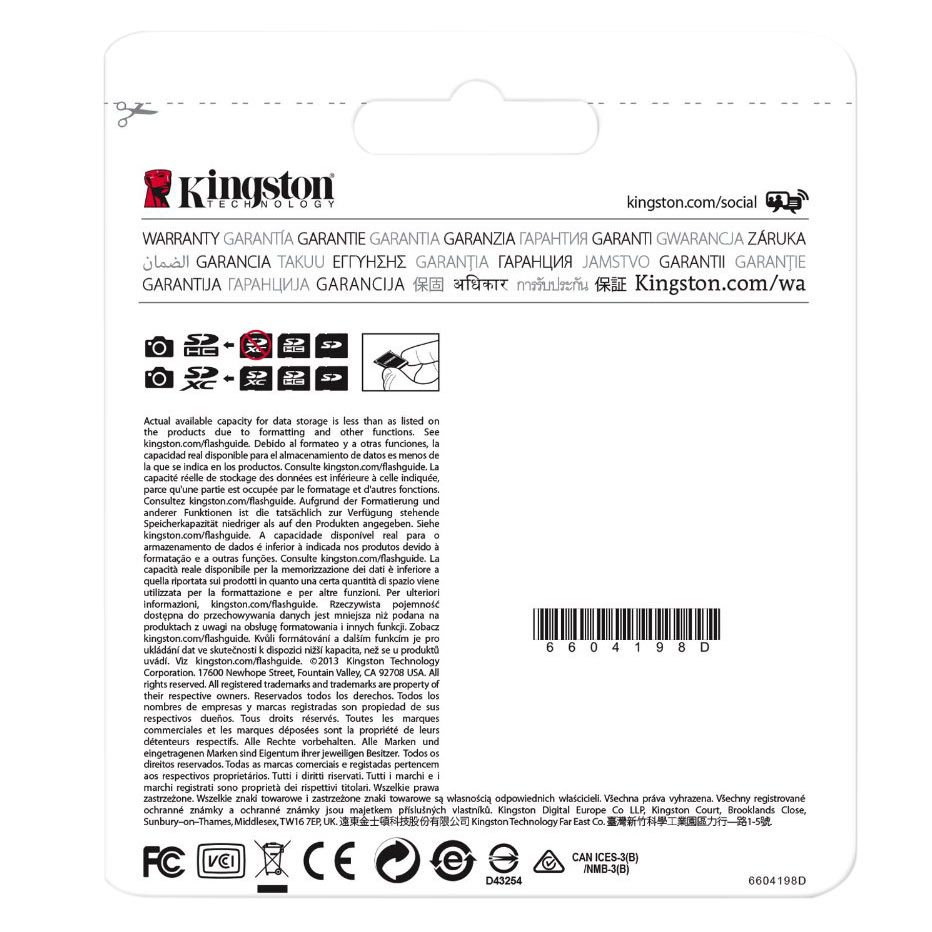Kingston: (133, 162, 341, 212)
